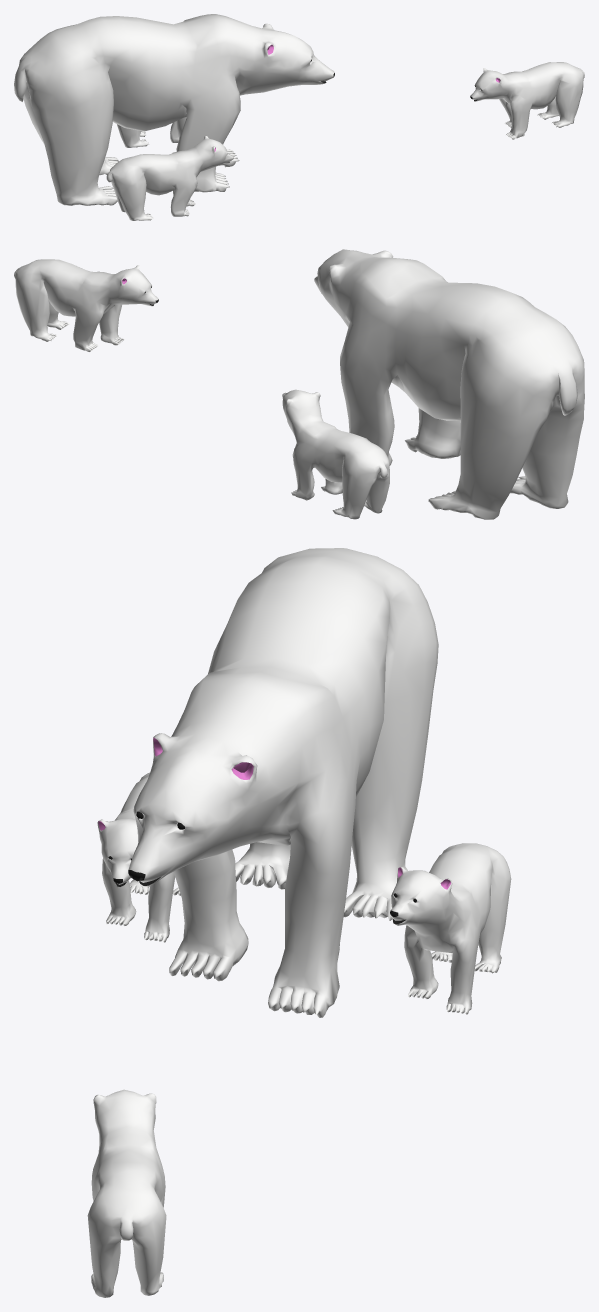
Rendered from Ours.fbx.
3 views of the same model, one above another, from view 1: azimuth 30°, elevation 25°; view 2: azimuth 150°, elevation 25°; view 3: azimuth 270°, elevation 25° (orthographic). The views are drawn at different scales.
Parts seen in each view (by area): view 1: Ours, Ours.002, Ours.003, Ours.001; view 2: Ours, Ours.003, Ours.001; view 3: Ours, Ours.001, Ours.003, Ours.002.
Part boxes in pixels (x1=…): Ours: x1=14, y1=14, x2=334, y2=205; Ours.002: x1=106, y1=136, x2=233, y2=220; Ours.003: x1=470, y1=62, x2=584, y2=139; Ours.001: x1=117, y1=121, x2=179, y2=147; Ours: x1=314, y1=249, x2=584, y2=519; Ours.003: x1=14, y1=259, x2=158, y2=351; Ours.001: x1=282, y1=389, x2=389, y2=519; Ours: x1=128, y1=548, x2=438, y2=1017; Ours.001: x1=390, y1=843, x2=511, y2=1014; Ours.003: x1=87, y1=1089, x2=166, y2=1297; Ours.002: x1=97, y1=772, x2=180, y2=942.
Bounding box in the file's own units: 350 × 109 × 126.
